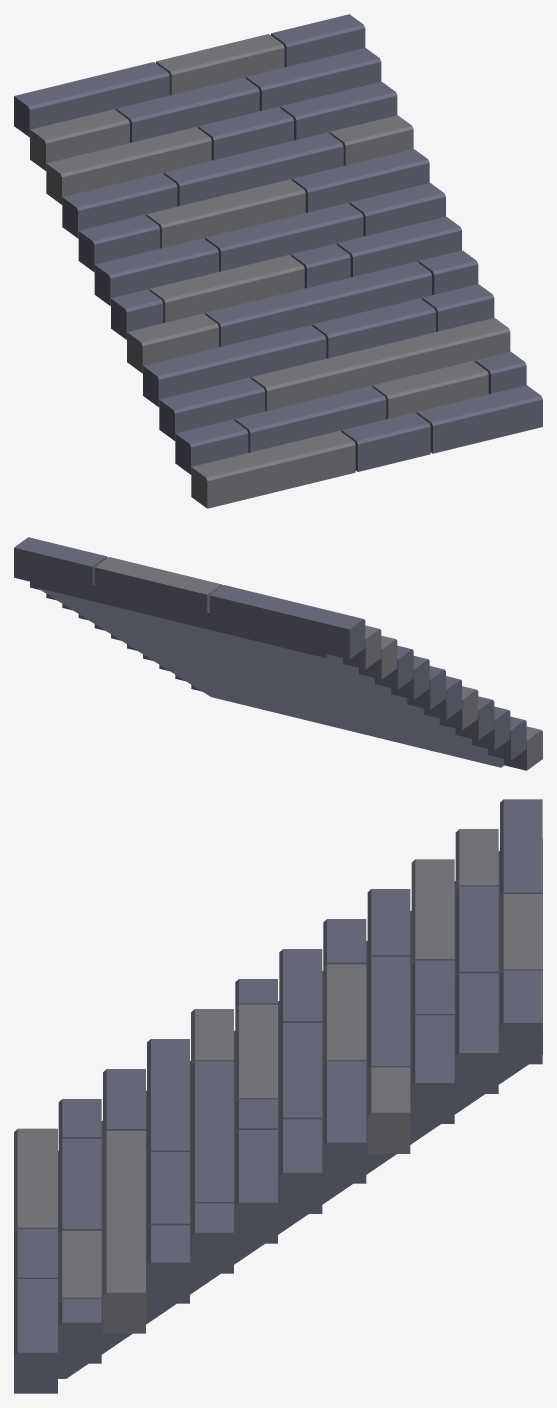
The model's file is Stairs.fbx.
3 views of the same model, one above another, from view 1: azimuth 30°, elevation 25°; view 2: azimuth 150°, elevation 25°; view 3: azimuth 270°, elevation 25° (orthographic). The views are drawn at different scales.
Parts seen in each view (by area): view 1: 1-Stairs; view 2: 1-Stairs; view 3: 1-Stairs.
Boxes of the visible parts, <box> form: 1-Stairs: <box>14,14,542,508</box>; 1-Stairs: <box>14,537,542,770</box>; 1-Stairs: <box>14,799,542,1393</box>.
Size of the model in its own units: 4 by 4 by 3.09.
